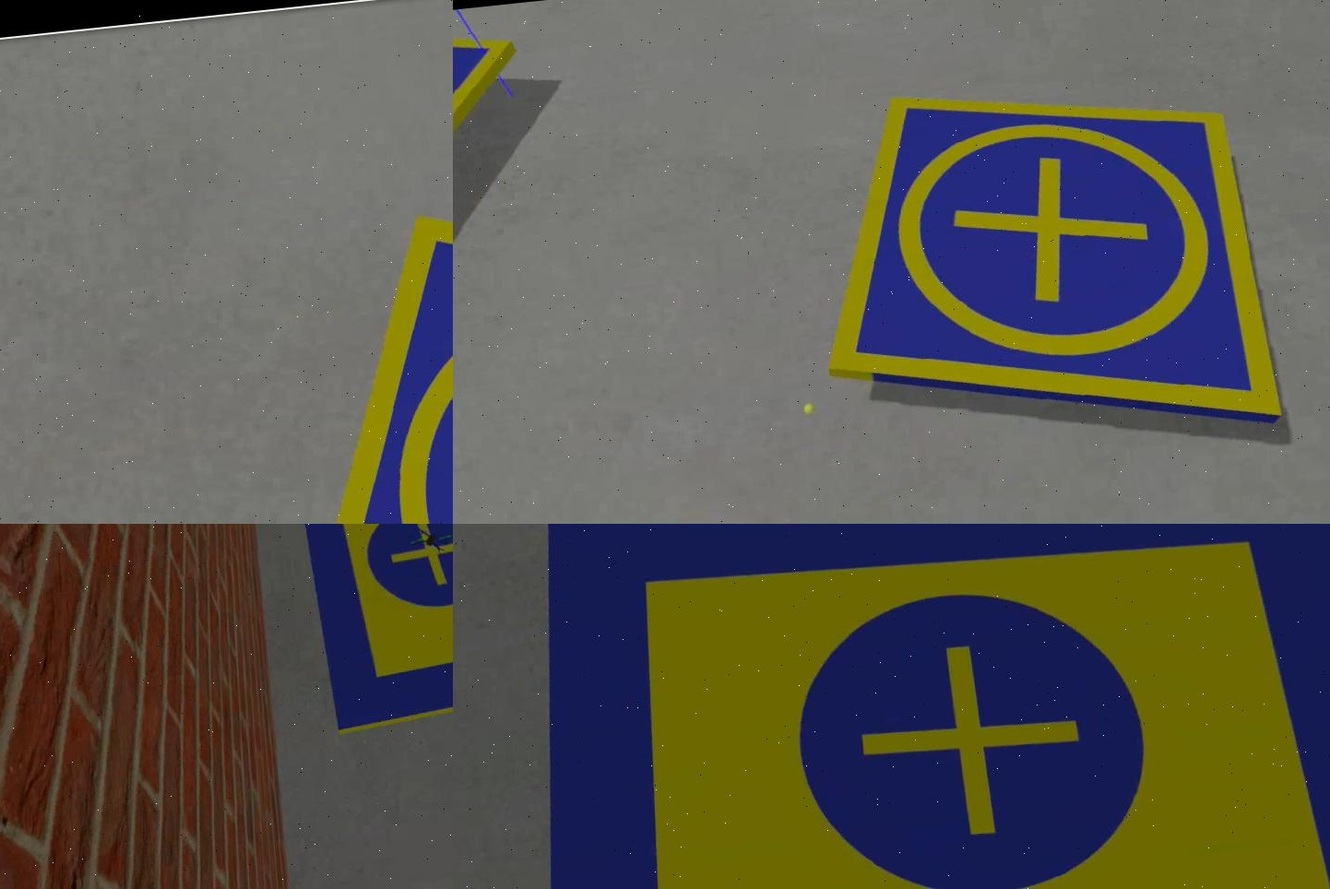large_base: (488, 524, 1328, 889), (294, 524, 452, 742)
small_base: (797, 59, 1284, 471), (244, 168, 452, 524), (452, 6, 537, 267)
